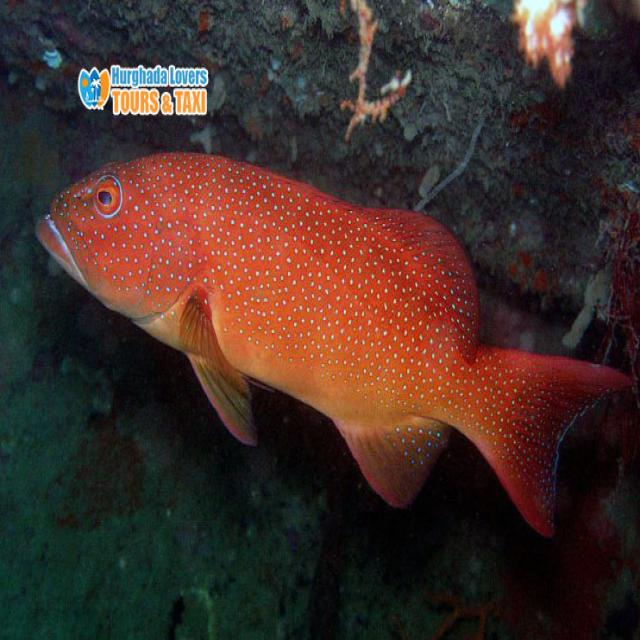Plectropomus-leopardus: (28, 126, 634, 544)
